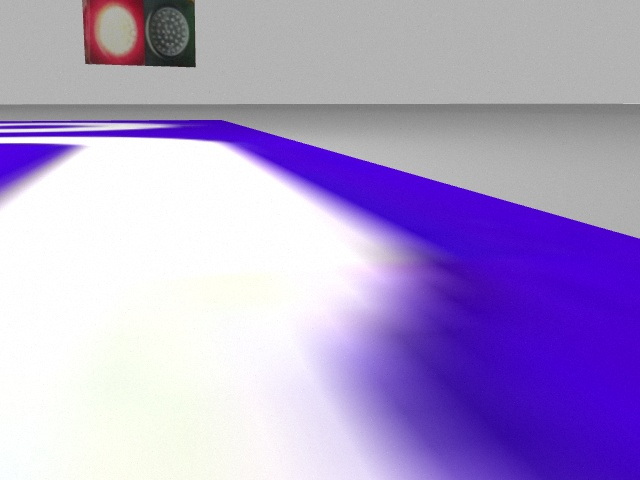red: (82, 2, 143, 66)
